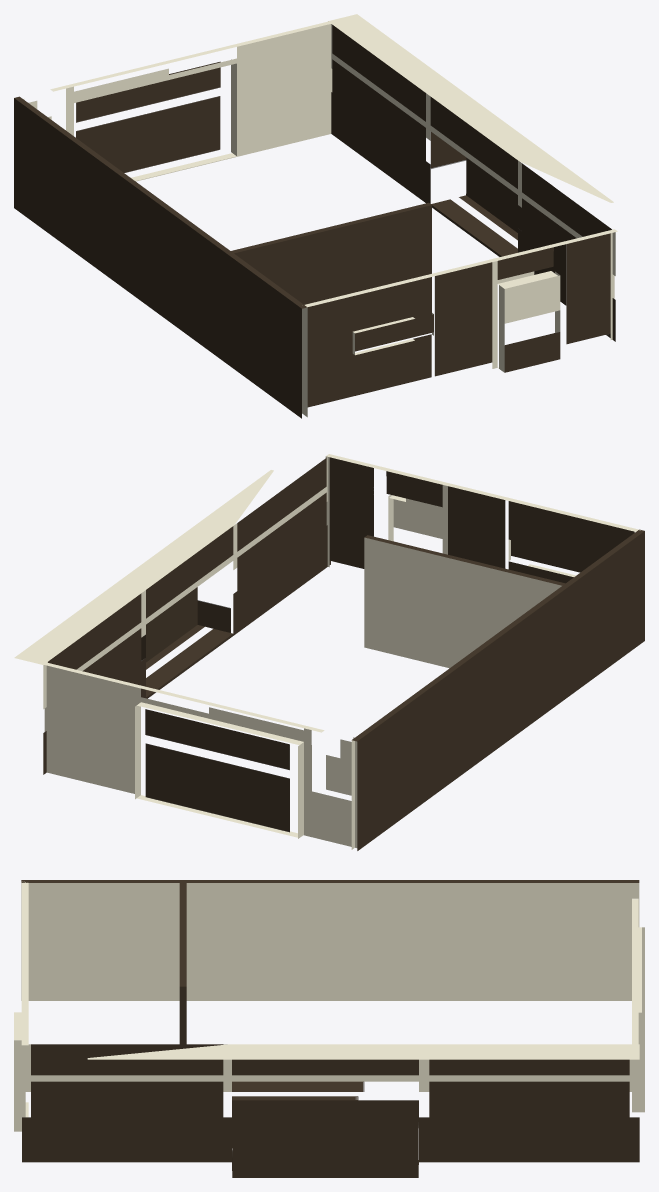
The model's file is room.fbx.
The picture shows the model from 3 angles, top to bottom: view 1: azimuth 30°, elevation 25°; view 2: azimuth 150°, elevation 25°; view 3: azimuth 270°, elevation 25°; orthographic projection. The views are drawn at different scales.
Parts seen in each view (by area): view 1: Cube.003, Cube.004, Cube, Cube.001, Cube.002; view 2: Cube.003, Cube.001, Cube.004, Cube, Cube.002; view 3: Cube.004, Cube.003, Cube, Cube.001, Cube.002.
Part boxes in pixels (x1,y1,x2,y2): Cube.003: (14,96,307,418); Cube.004: (328,14,615,341); Cube: (305,229,617,407); Cube.001: (23,21,332,181); Cube.002: (229,202,431,318); Cube.003: (351,529,644,850); Cube.001: (42,662,357,847); Cube.004: (14,457,330,774); Cube: (325,454,640,583); Cube.002: (364,535,567,668); Cube.004: (22,1044,639,1177); Cube.003: (21,880,639,1000); Cube: (14,881,28,1131); Cube.001: (632,898,644,1112); Cube.002: (179,881,186,1044).
Bounding box in the file's own units: 582 × 175 × 847.
